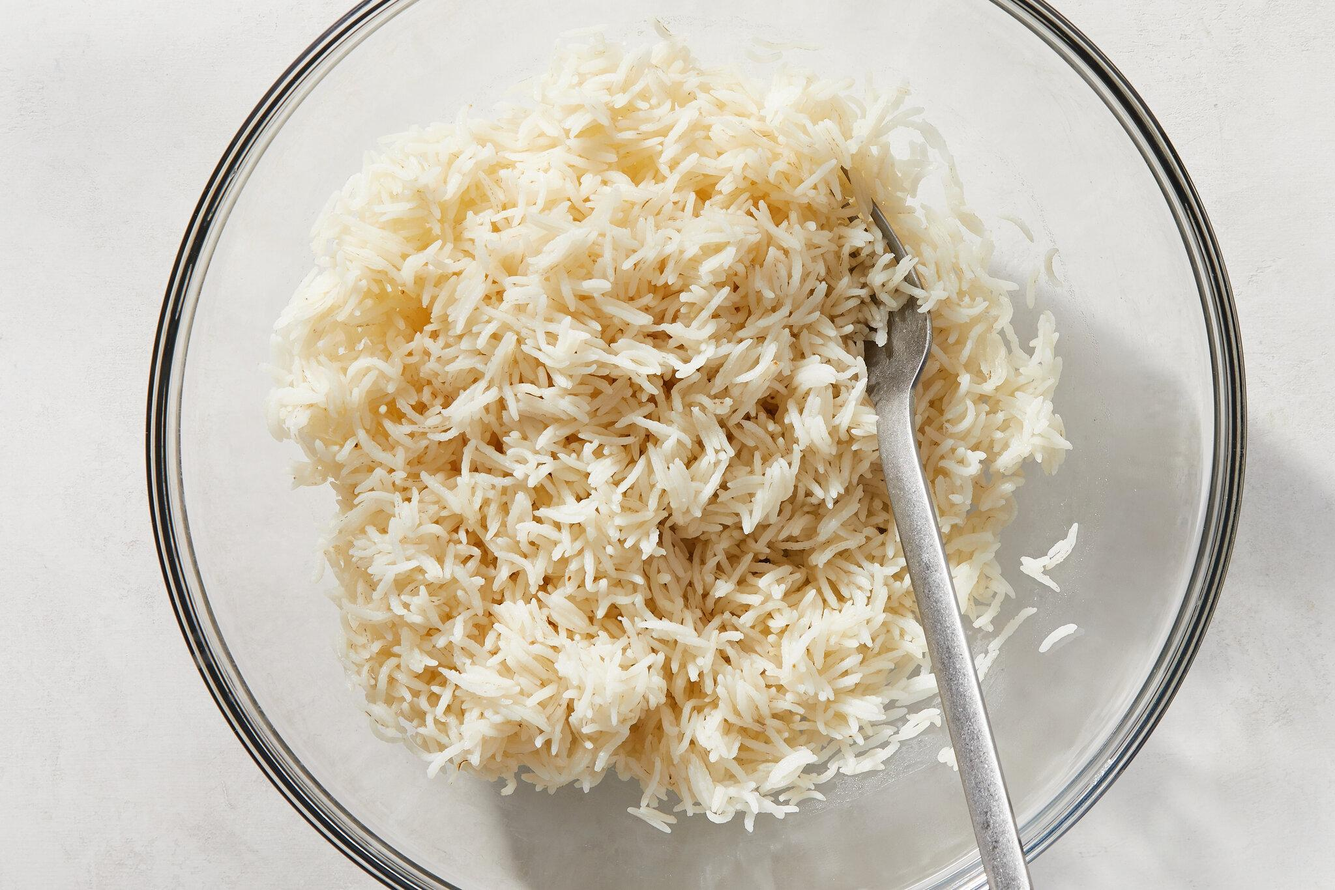rice: (258, 42, 1059, 814)
